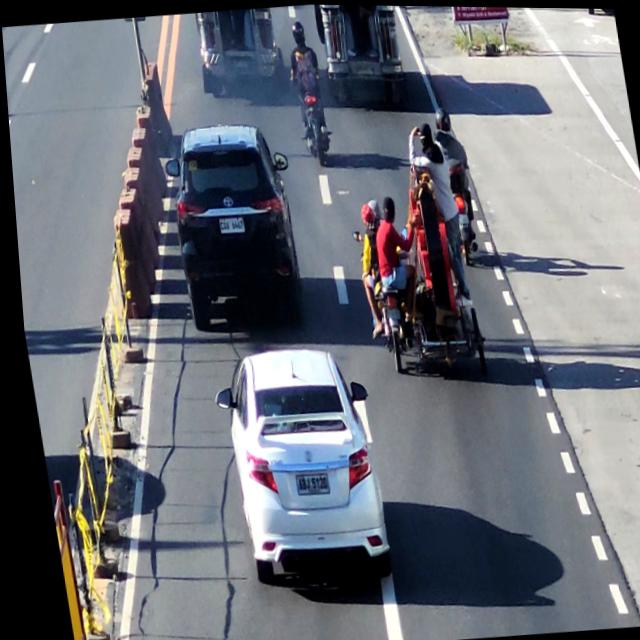Car: (211, 342, 387, 578), (159, 117, 304, 328)
Jeep: (191, 5, 286, 96), (313, 4, 411, 90)
License-Plate: (285, 466, 324, 500), (212, 210, 245, 239), (376, 302, 398, 322)
Motorcycle: (283, 16, 331, 164)
Tricycle: (350, 167, 484, 379)
